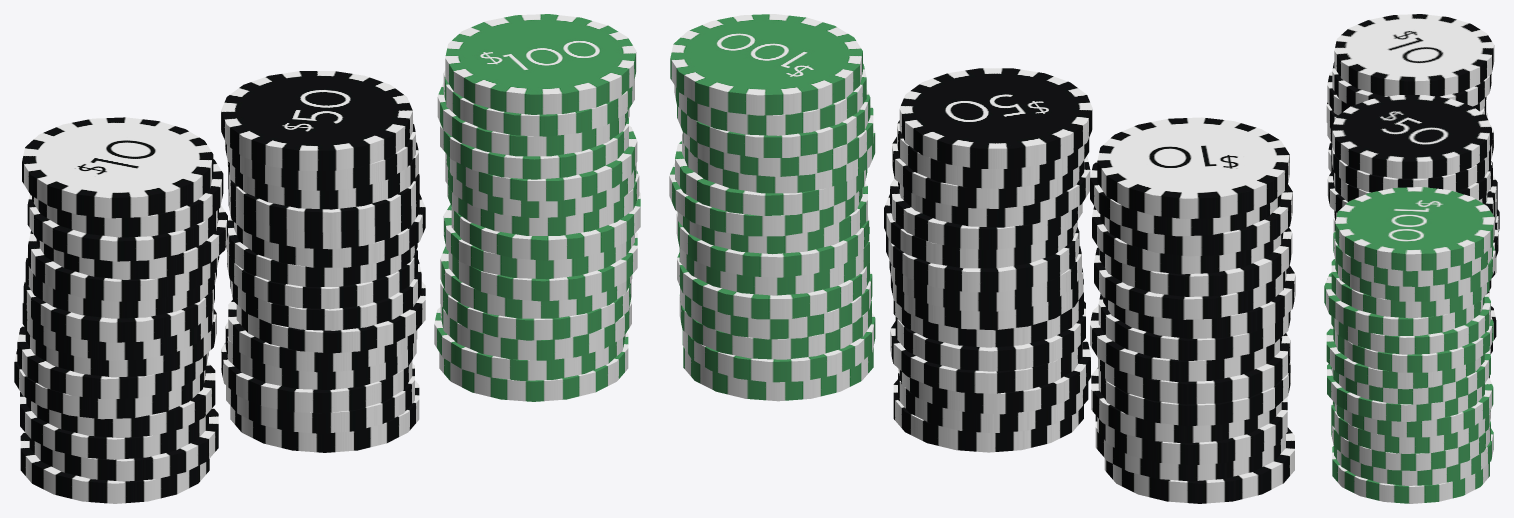
File: Chip Towers 1.FBX
The picture shows the model from 3 angles, left to right: view 1: azimuth 30°, elevation 25°; view 2: azimuth 150°, elevation 25°; view 3: azimuth 270°, elevation 25°; orthographic projection. The views are drawn at different scales.
Parts seen in each view (by area): view 1: Chip10, Chip100, Chip50; view 2: Chip10, Chip100, Chip50; view 3: Chip100, Chip50, Chip10.
Part boxes in pixels (x1,y1,x2,y2): Chip10: [14, 117, 227, 503]; Chip100: [434, 14, 640, 401]; Chip50: [221, 71, 425, 452]; Chip10: [1090, 117, 1295, 503]; Chip100: [669, 14, 875, 401]; Chip50: [884, 68, 1092, 452]; Chip100: [1324, 187, 1495, 503]; Chip50: [1327, 95, 1498, 378]; Chip10: [1326, 14, 1499, 292].
Size of the model in its own units: 5.74 by 2.8 by 1.75.
3 materials, 3 textured.
